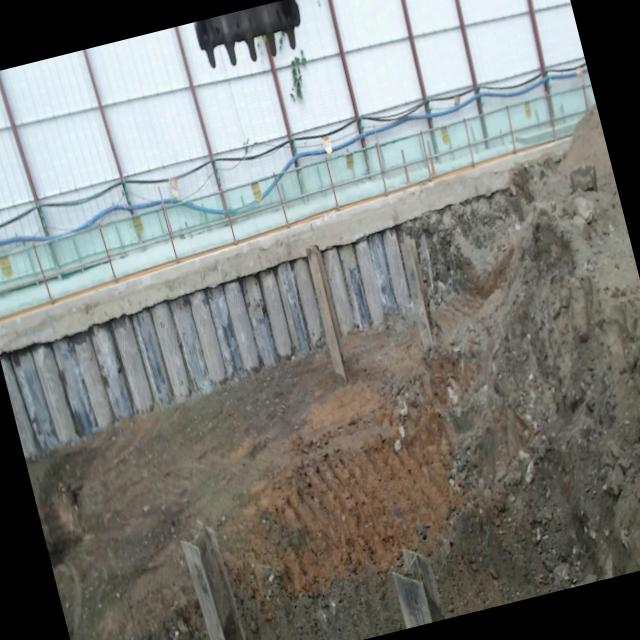cement: (0, 138, 568, 353)
red-sand: (25, 105, 640, 640)
